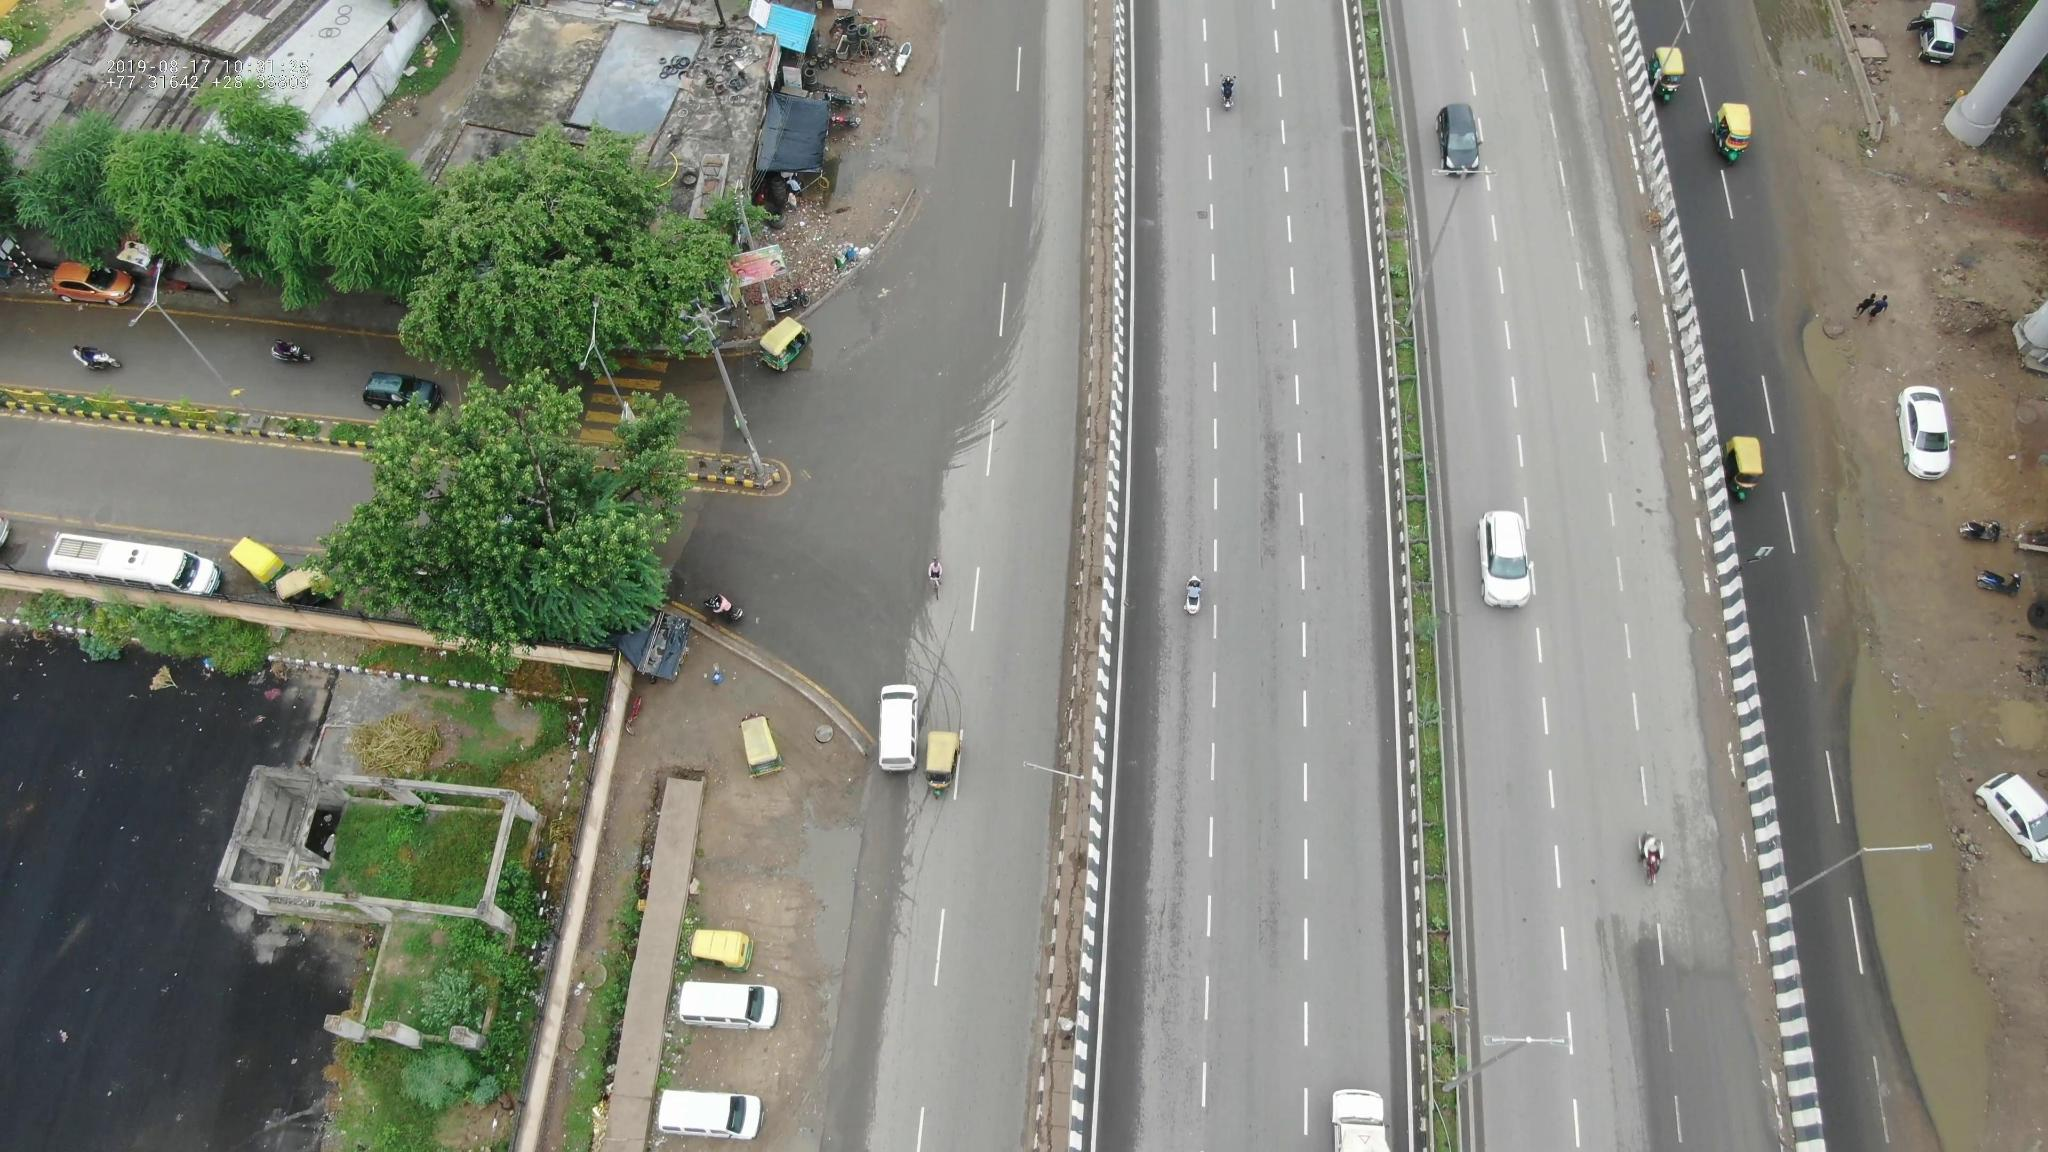Ravelling: (1248, 326, 1293, 563)
Waterlogging: (1847, 633, 2010, 1148), (1786, 307, 1876, 421), (1817, 466, 1897, 584)
